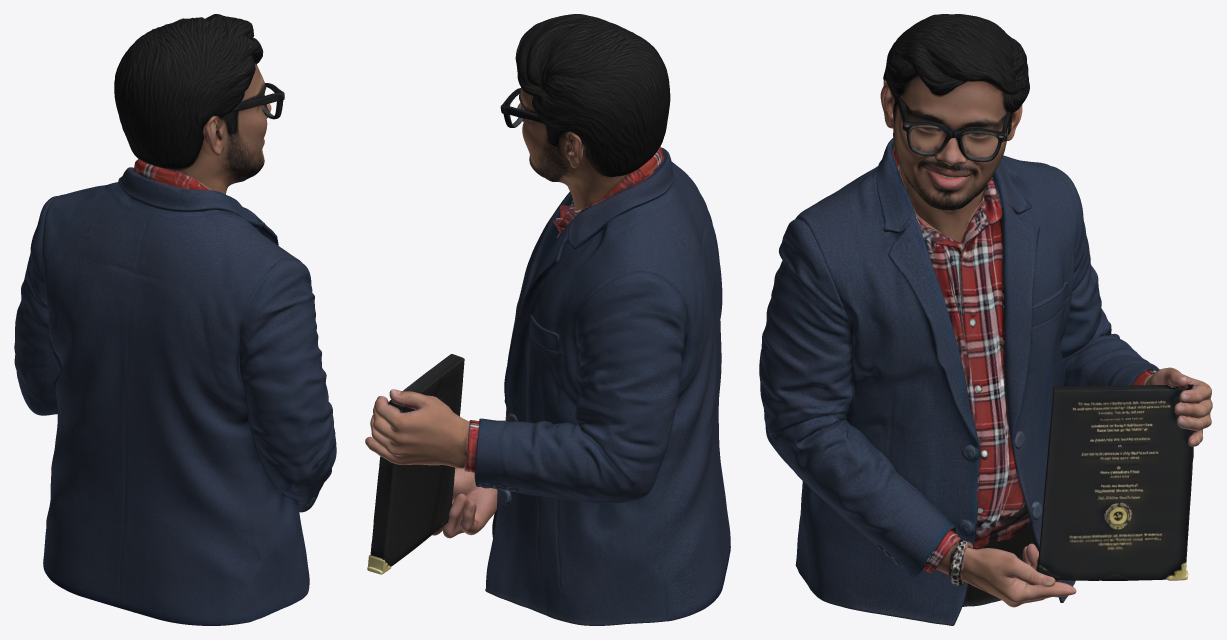
Rendered from avatar.glb.
The picture shows the model from 3 angles, left to right: view 1: azimuth 30°, elevation 25°; view 2: azimuth 150°, elevation 25°; view 3: azimuth 270°, elevation 25°; orthographic projection. The views are drawn at different scales.
Visible parts, largest first — view 1: tripo_node_7ef460a7-2b3e-49ae-9e77-f46e5bdd70e7; view 2: tripo_node_7ef460a7-2b3e-49ae-9e77-f46e5bdd70e7; view 3: tripo_node_7ef460a7-2b3e-49ae-9e77-f46e5bdd70e7.
Part boxes in pixels (left/top/right/bottom): tripo_node_7ef460a7-2b3e-49ae-9e77-f46e5bdd70e7: left=14, top=14, right=336, bottom=625; tripo_node_7ef460a7-2b3e-49ae-9e77-f46e5bdd70e7: left=365, top=14, right=730, bottom=625; tripo_node_7ef460a7-2b3e-49ae-9e77-f46e5bdd70e7: left=759, top=14, right=1212, bottom=625.
Size of the model in its own units: 0.5193 by 1 by 0.7397.
1 material, 1 textured.
